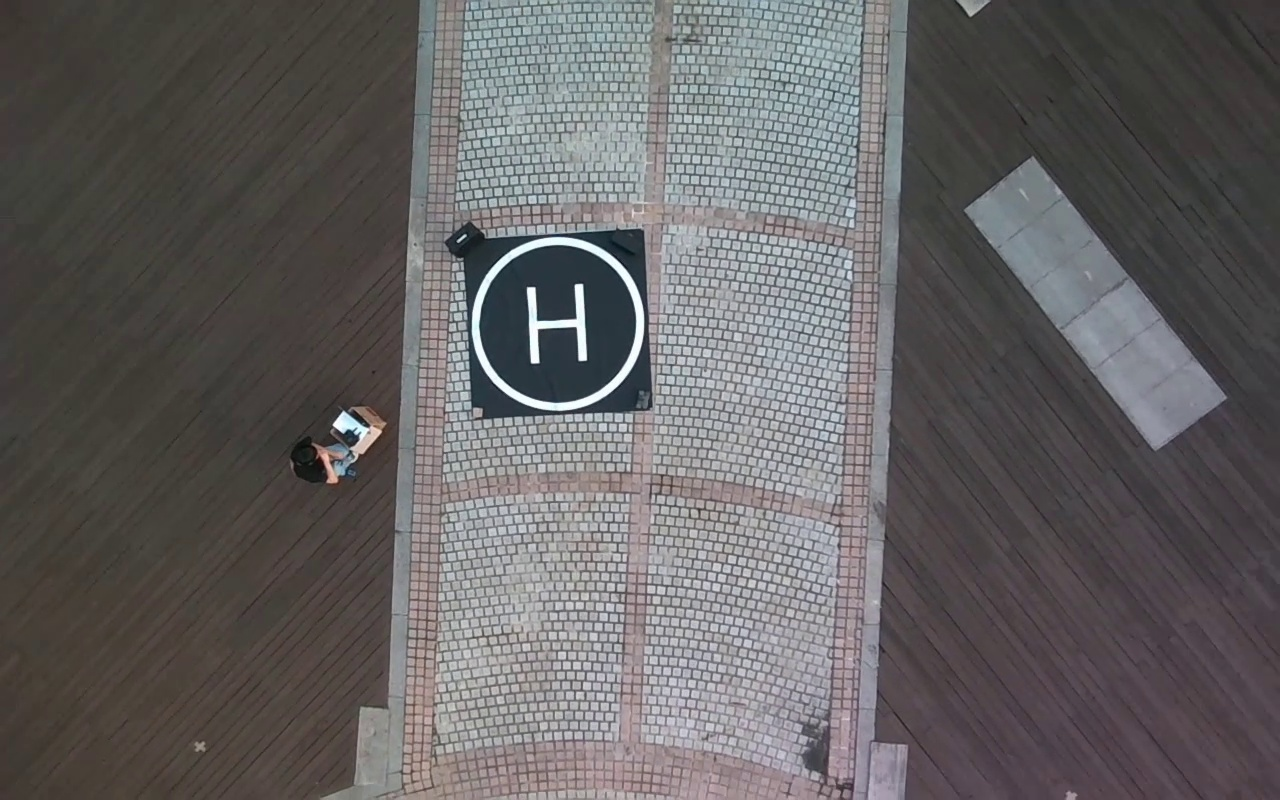H: (522, 284, 590, 365)
heliport: (469, 236, 648, 412)
